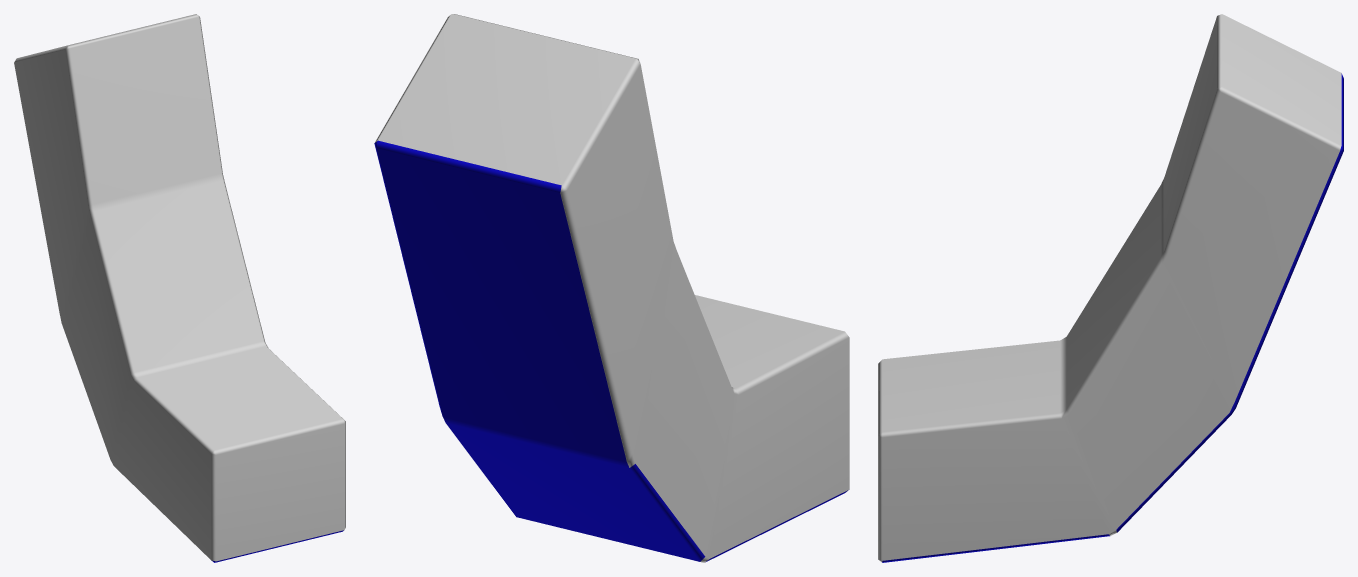
File: FootBoost_A.fbx
The picture shows the model from 3 angles, left to right: view 1: azimuth 30°, elevation 25°; view 2: azimuth 150°, elevation 25°; view 3: azimuth 270°, elevation 25°; orthographic projection. The views are drawn at different scales.
Parts seen in each view (by area): view 1: FootBoost_A; view 2: FootBoost_A; view 3: FootBoost_A.
Boxes of the visible parts, x1,y1,x2,y2 form: FootBoost_A: [14, 14, 345, 562]; FootBoost_A: [374, 14, 849, 562]; FootBoost_A: [878, 14, 1343, 562].
Size of the model in its own units: 27.77 by 80.85 by 71.64.
